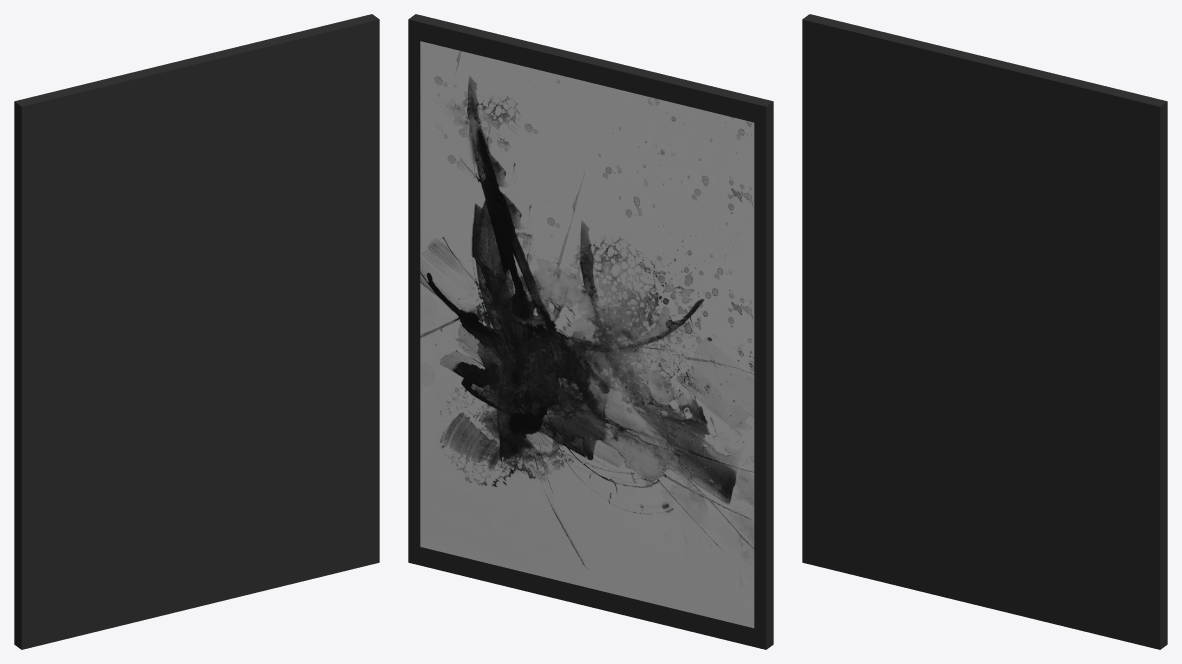
Rendered from painting1.dae.
The picture shows the model from 3 angles, left to right: view 1: azimuth 30°, elevation 25°; view 2: azimuth 150°, elevation 25°; view 3: azimuth 330°, elevation 25°; orthographic projection.
Visible parts, largest first — view 1: Cube; view 2: Cube; view 3: Cube.
Boxes of the visible parts, x1=… form: Cube: x1=14, y1=14, x2=379, y2=649; Cube: x1=408, y1=14, x2=773, y2=649; Cube: x1=802, y1=14, x2=1167, y2=649.
Size of the model in its own units: 0.4 by 0.0144 by 0.58.
